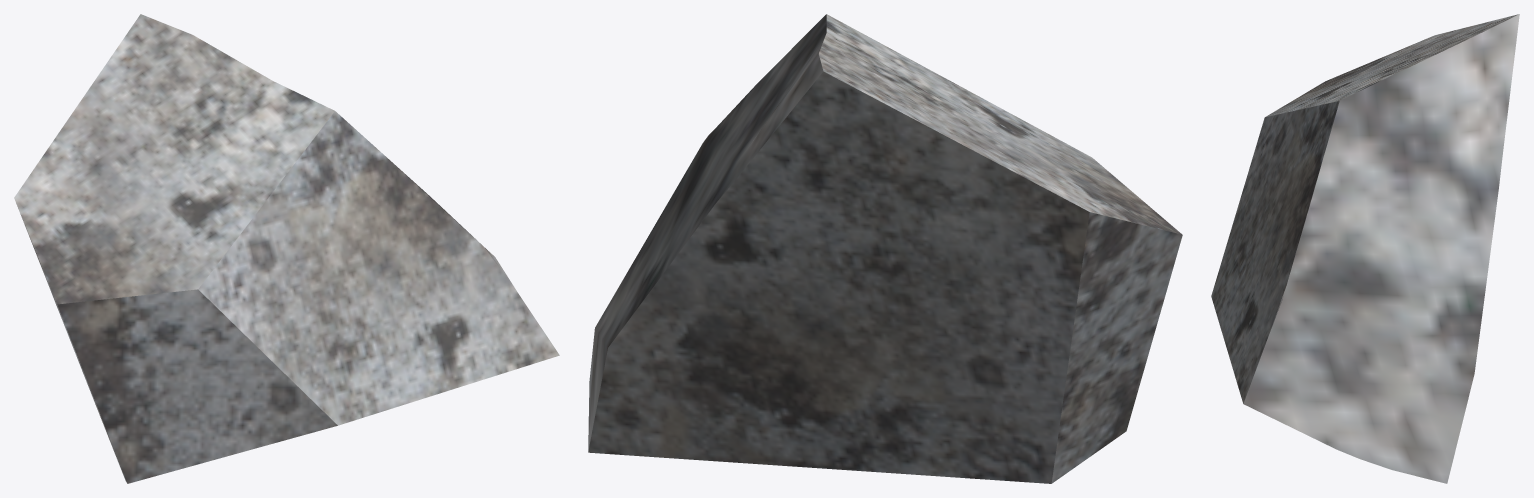
File: Asteroid_Large_001_02_010_03_006.fbx
3 renders of one model, left to right at view 1: azimuth 30°, elevation 25°; view 2: azimuth 150°, elevation 25°; view 3: azimuth 270°, elevation 25°, orthographic. The views are drawn at different scales.
Parts seen in each view (by area): view 1: Asteroid_Large_001_02_010_03_006; view 2: Asteroid_Large_001_02_010_03_006; view 3: Asteroid_Large_001_02_010_03_006.
Boxes of the visible parts, x1,y1,x2,y2 form: Asteroid_Large_001_02_010_03_006: (14, 14, 559, 483); Asteroid_Large_001_02_010_03_006: (588, 14, 1182, 483); Asteroid_Large_001_02_010_03_006: (1211, 14, 1519, 483).
Bounding box in the file's own units: 7.26 × 5.97 × 4.56.
